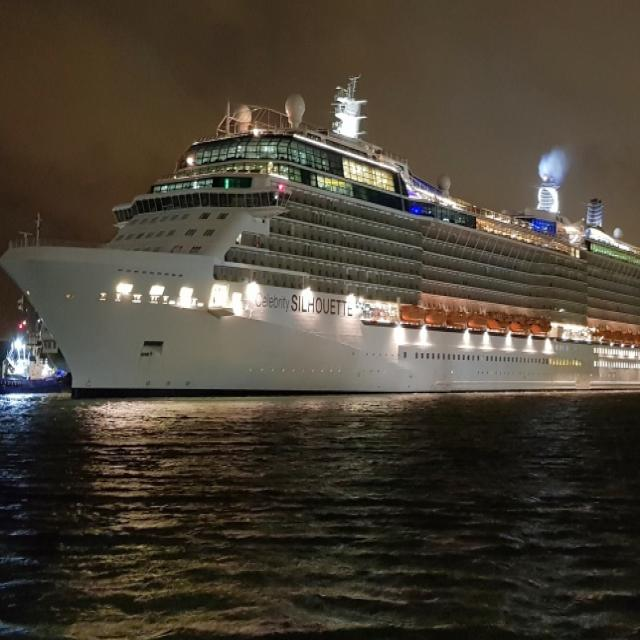cruises: (1, 71, 640, 406)
